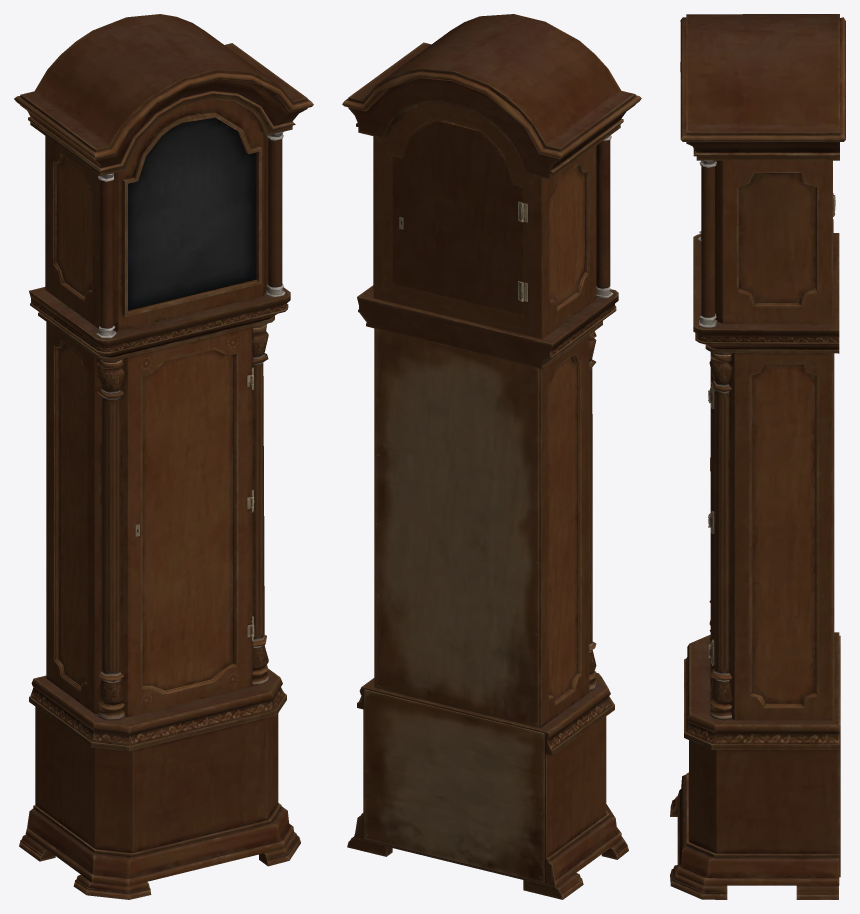
The model's file is grandfather_clock.glb.
The picture shows the model from 3 angles, left to right: view 1: azimuth 30°, elevation 25°; view 2: azimuth 150°, elevation 25°; view 3: azimuth 270°, elevation 25°; orthographic projection. The views are drawn at different scales.
Visible parts, largest first — view 1: vintage_grandfather_clock_01_Body; view 2: vintage_grandfather_clock_01_Body; view 3: vintage_grandfather_clock_01_Body.
Boxes of the visible parts, <box> form: vintage_grandfather_clock_01_Body: <box>14,14,313,899</box>; vintage_grandfather_clock_01_Body: <box>342,14,641,899</box>; vintage_grandfather_clock_01_Body: <box>670,14,845,899</box>.
Size of the model in its own units: 0.6255 by 2.19 by 0.4265.
Materials: 2 (2 with a texture image).
